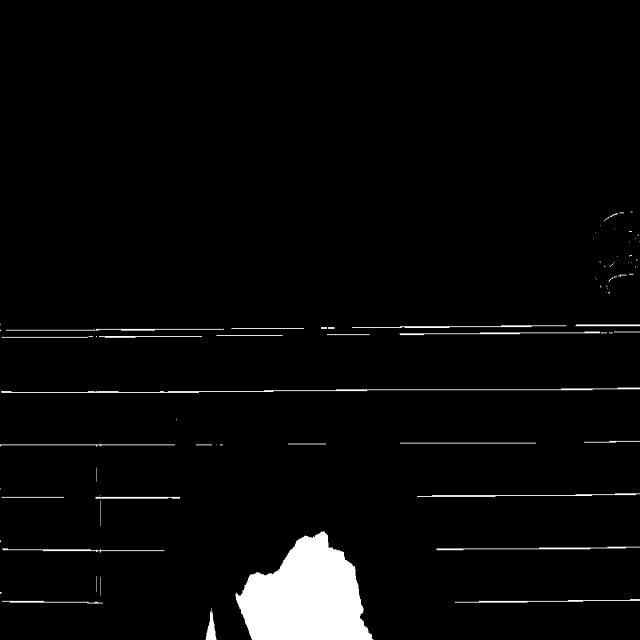hand: (237, 532, 372, 639), (206, 609, 216, 639)
noise: (0, 386, 640, 394), (320, 324, 640, 336), (0, 327, 306, 338), (436, 545, 640, 556), (0, 542, 164, 554), (416, 492, 640, 499), (0, 442, 178, 448), (455, 598, 640, 603), (94, 494, 180, 503), (2, 597, 102, 604), (399, 441, 536, 444), (0, 494, 66, 499), (582, 439, 640, 444), (287, 441, 326, 446), (190, 441, 226, 446), (96, 576, 101, 596), (98, 499, 101, 526)
not-noise: (176, 417, 178, 421)
page-marker: (593, 212, 640, 292)
